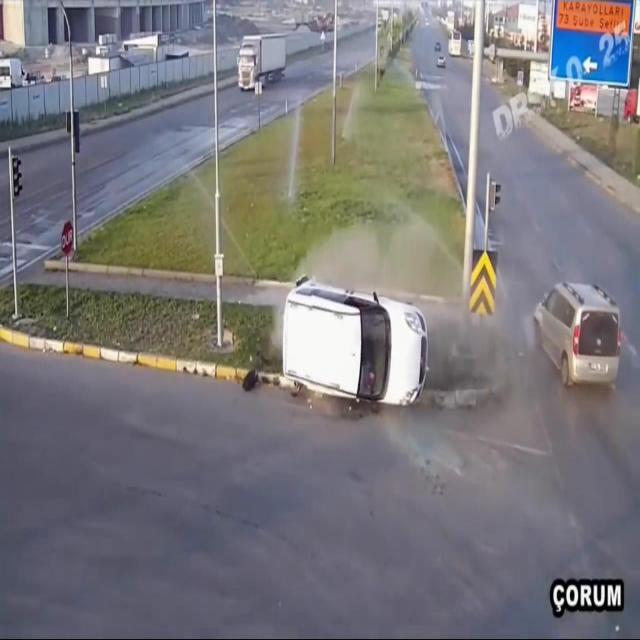accident: (282, 267, 432, 414)
